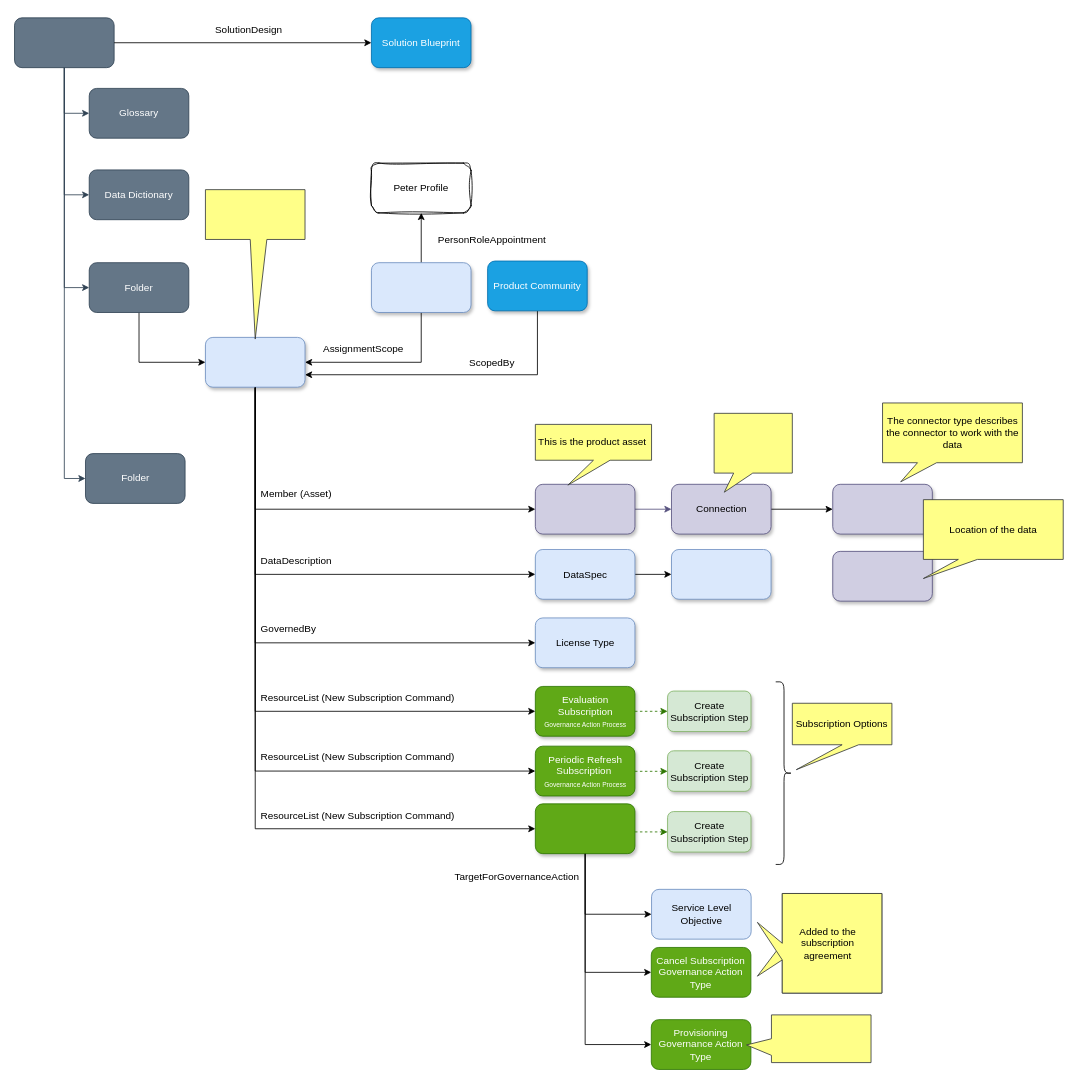
This 1078x1084 diagram has some shape labels left out. Here are the shapes that lost their labels. From the top down, the centre of each, then its label:
At (x=64, y=42): "ProductCatalog".
At (x=255, y=264): "Digital Product in the Product Catalog".
At (x=421, y=288): "Product Manager Role".
At (x=255, y=363): "DigitalProduct".
At (x=752, y=452): "How to get access to the data".
At (x=585, y=510): "Data Asset".
At (x=883, y=510): "Connector Type".
At (x=721, y=575): "DataStructure".
At (x=883, y=577): "Endpoint".
At (x=585, y=829): "Ongoing Update Subscription Governance Action Process".
At (x=808, y=1038): "Used by the subscription manager".
